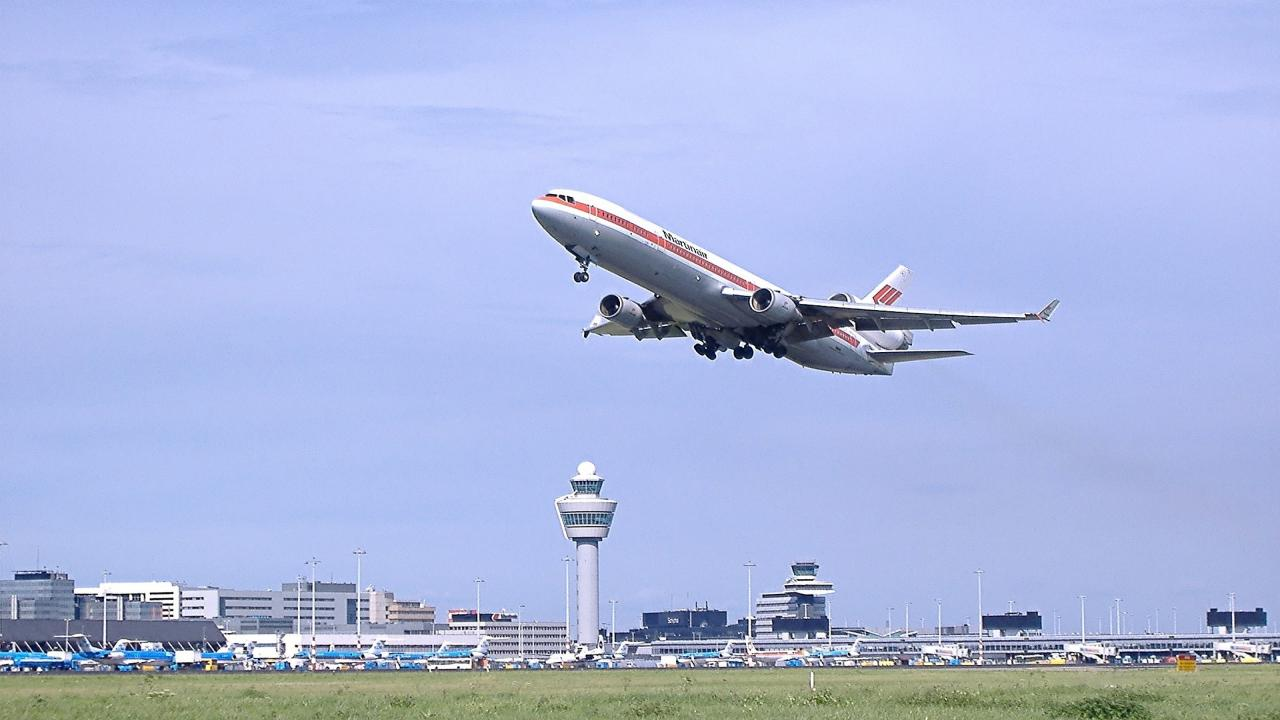Airplane: (521, 178, 1071, 388)
